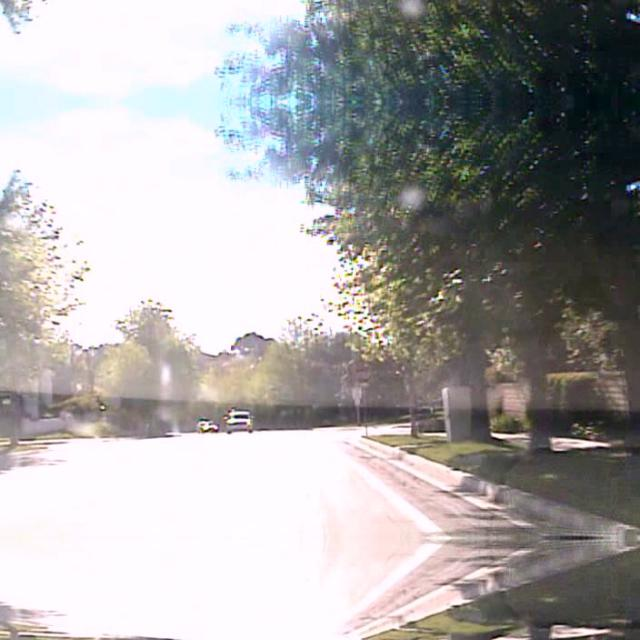stop: (352, 363, 370, 381)
